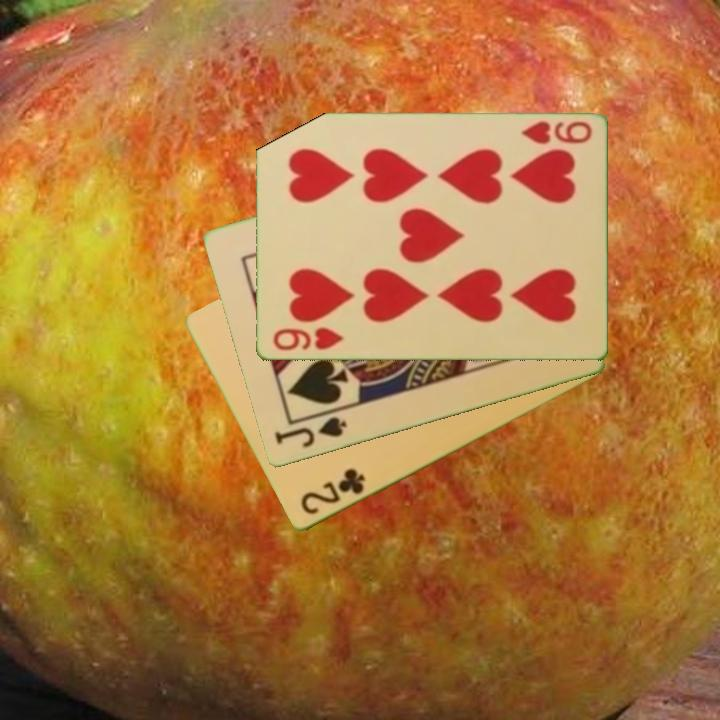2c: (297, 465, 368, 518)
9h: (517, 118, 594, 148), (269, 324, 345, 354)
Js: (271, 413, 350, 451)
